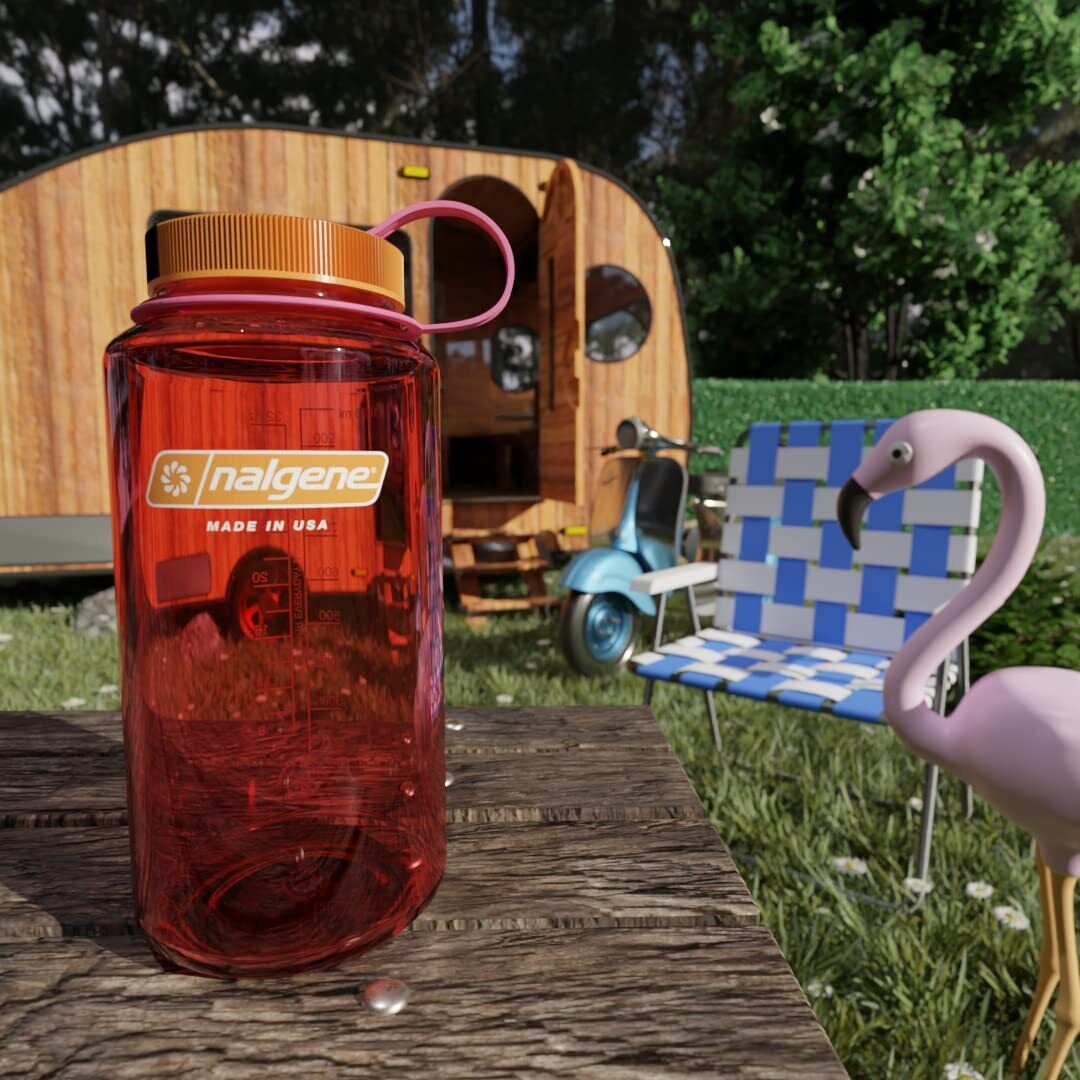waterbottle: (99, 201, 520, 982)
